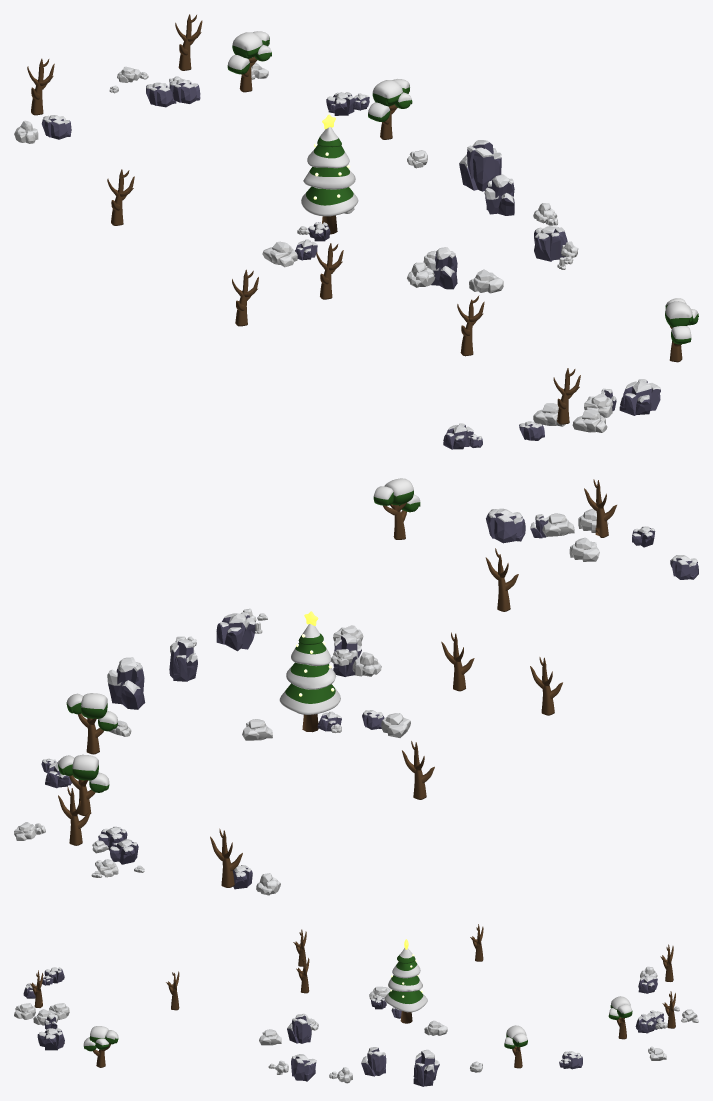
File: Environment.fbx
3 views of the same model, one above another, from view 1: azimuth 30°, elevation 25°; view 2: azimuth 150°, elevation 25°; view 3: azimuth 270°, elevation 25° (orthographic). The views are drawn at different scales.
Parts seen in each view (by area): view 1: Rocks, Tree, ChristmasTree; view 2: Rocks, Tree, ChristmasTree; view 3: Rocks, Tree, ChristmasTree.
Boxes of the visible parts, x1,y1,x2,y2 form: Rocks: (14, 62, 660, 449); Tree: (27, 14, 698, 424); ChristmasTree: (301, 127, 358, 234); Rocks: (14, 508, 698, 895); Tree: (58, 478, 616, 887); ChristmasTree: (279, 624, 340, 732); Rocks: (14, 966, 698, 1086); Tree: (30, 924, 675, 1068); ChristmasTree: (384, 948, 427, 1023).
Size of the model in its own units: 23058 by 7674 by 54600.
Materials: 7 (1 with a texture image).
